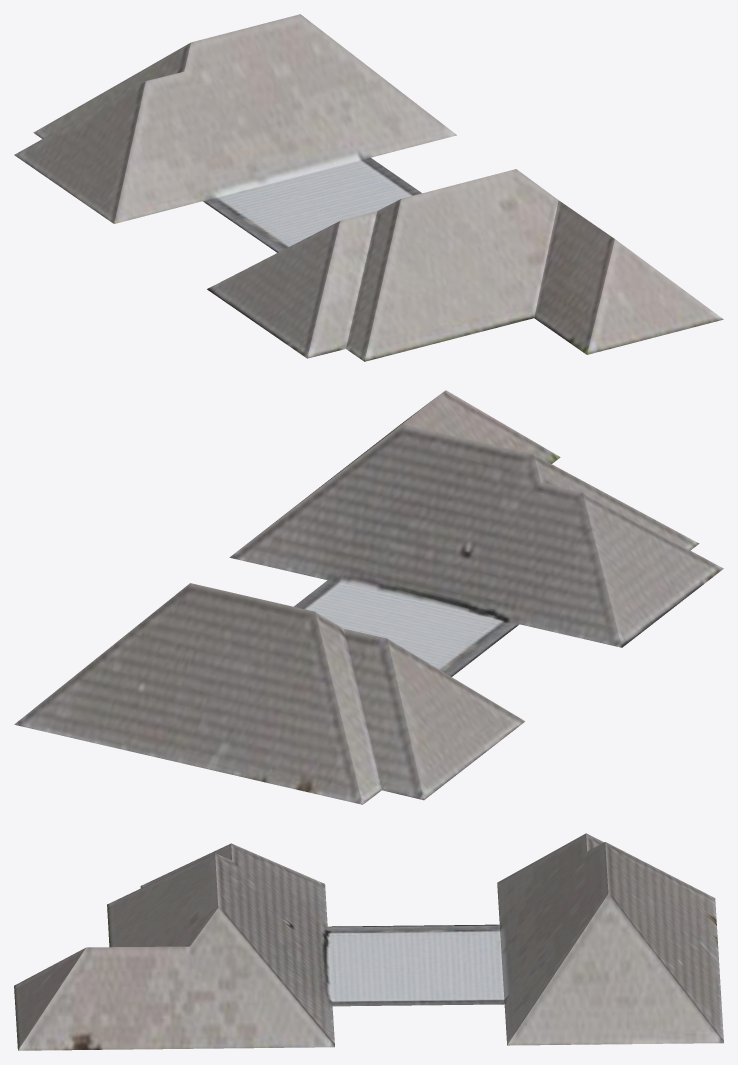
The model's file is BJ39_500_100047_0013_roof.obj.
The picture shows the model from 3 angles, top to bottom: view 1: azimuth 30°, elevation 25°; view 2: azimuth 150°, elevation 25°; view 3: azimuth 270°, elevation 25°; orthographic projection. The views are drawn at different scales.
Parts seen in each view (by area): view 1: BJ39_500_100047_0013_roof; view 2: BJ39_500_100047_0013_roof; view 3: BJ39_500_100047_0013_roof.
Boxes of the visible parts, <box> form: BJ39_500_100047_0013_roof: <box>14,14,723,361</box>; BJ39_500_100047_0013_roof: <box>14,390,723,804</box>; BJ39_500_100047_0013_roof: <box>14,833,723,1050</box>.
Bounding box in the file's own units: 269 × 76.13 × 474.
1 material, 1 textured.
